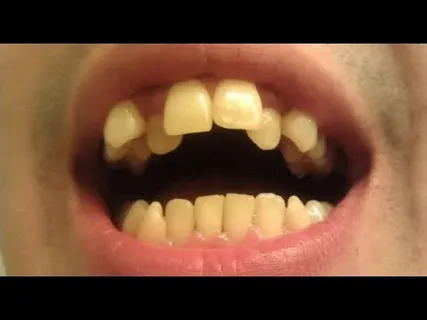Crowding: (106, 77, 210, 155), (212, 79, 318, 148)
